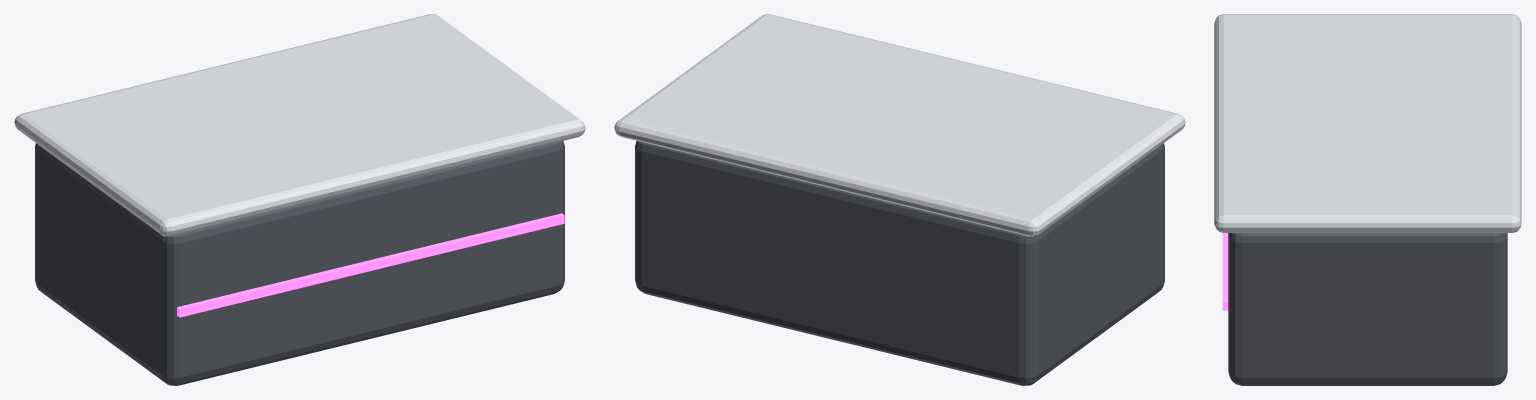
The model's file is coffee_table_monolith.glb.
The picture shows the model from 3 angles, left to right: view 1: azimuth 30°, elevation 25°; view 2: azimuth 150°, elevation 25°; view 3: azimuth 270°, elevation 25°; orthographic projection.
Visible parts, largest first — view 1: GD_coffee_table_monolith__m0, GD_coffee_table_monolith__m1, GD_coffee_table_monolith__m2; view 2: GD_coffee_table_monolith__m0, GD_coffee_table_monolith__m1; view 3: GD_coffee_table_monolith__m1, GD_coffee_table_monolith__m0, GD_coffee_table_monolith__m2.
Boxes of the visible parts, x1,y1,x2,y2 form: GD_coffee_table_monolith__m0: (35, 141, 564, 385); GD_coffee_table_monolith__m1: (14, 14, 585, 236); GD_coffee_table_monolith__m2: (177, 213, 564, 317); GD_coffee_table_monolith__m0: (635, 141, 1164, 385); GD_coffee_table_monolith__m1: (614, 14, 1185, 236); GD_coffee_table_monolith__m1: (1214, 14, 1521, 232); GD_coffee_table_monolith__m0: (1228, 233, 1507, 385); GD_coffee_table_monolith__m2: (1222, 233, 1228, 310).
Bounding box in the file's own units: 1.06 × 0.42 × 0.66.
